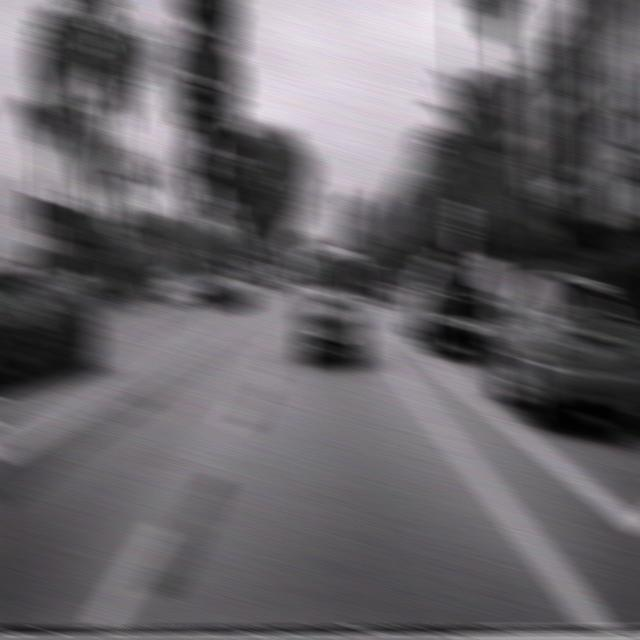speedLimit35: (448, 200, 473, 238)
